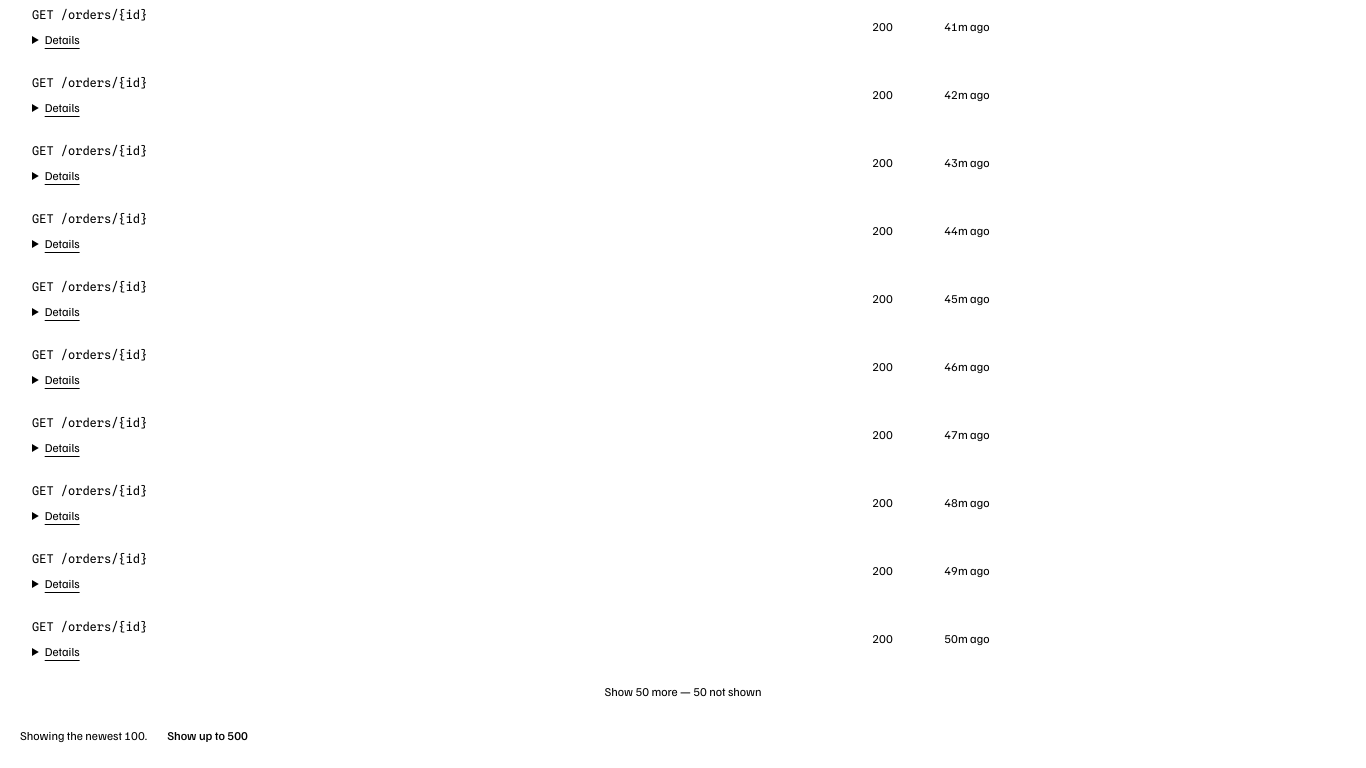
Test: offers up to 500 when the newest 100 fill the page, then pages back by until
(page scrolled)
Step 1. Click the button "Show up to 500" → (207, 736), box [159,724,256,748]
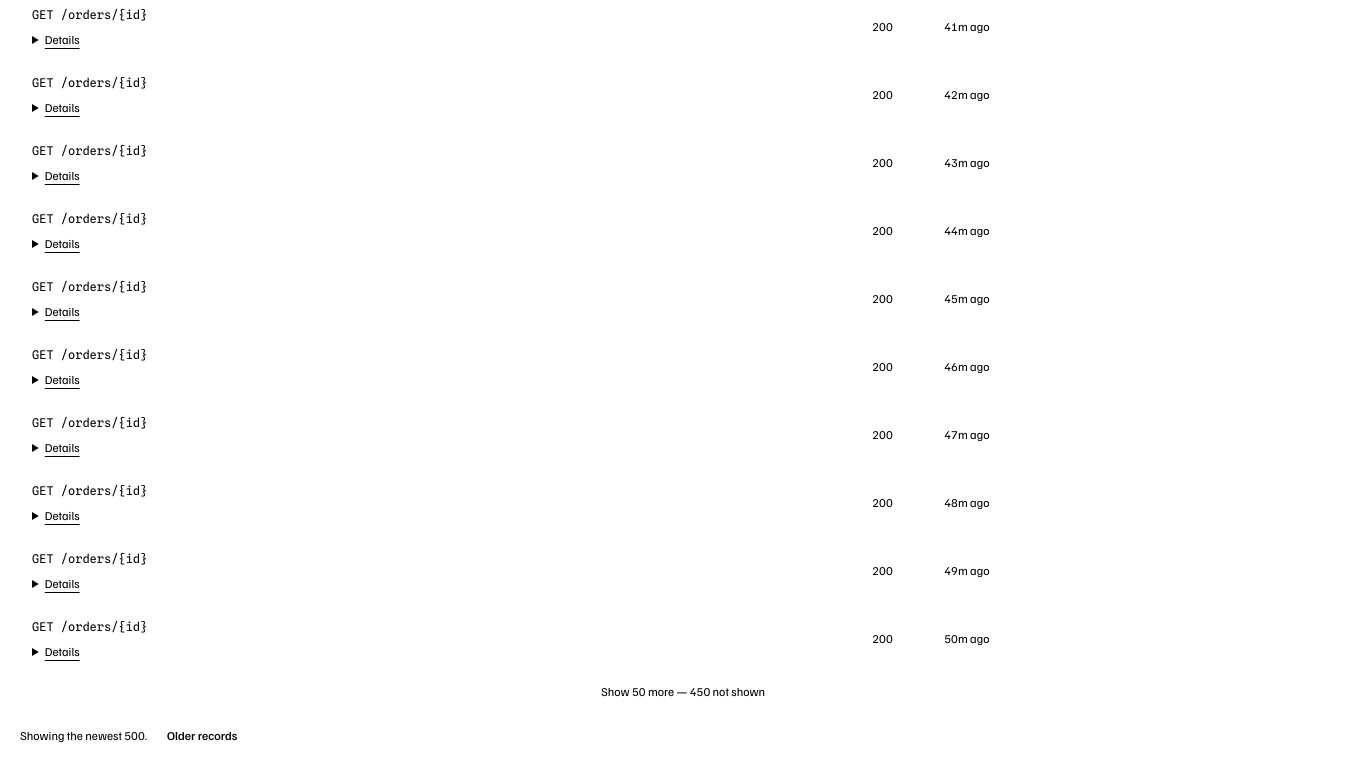
Check: the text "Showing the newest 500." is shown, box [20,728,147,744]
Check: the button "Show up to 500" is gone
Step 2. Click the button "Older records" → (202, 736), box [159,724,245,748]
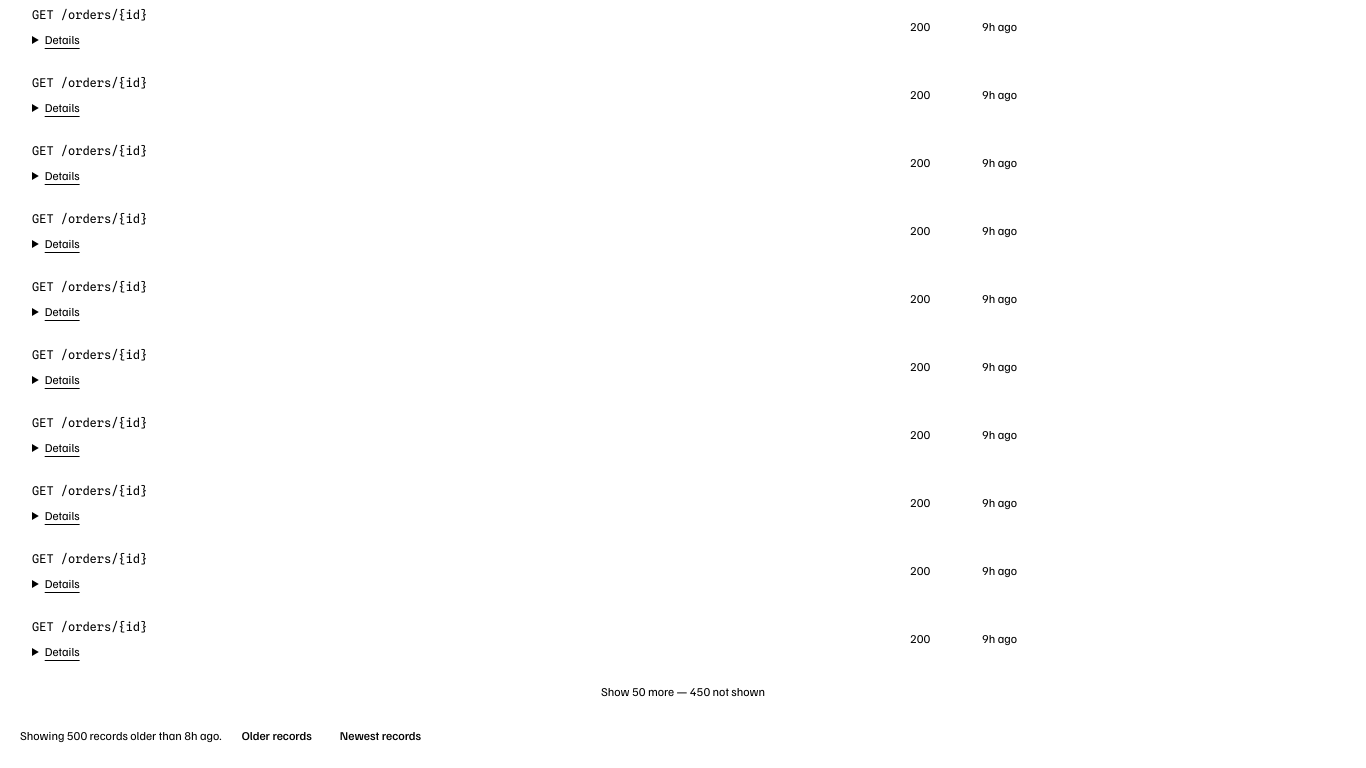
Check: the text "Showing 500 records older than 8h ago." is shown, box [20,728,222,744]
Step 3. Click the button "Newest records" → (381, 736), box [332,724,429,748]
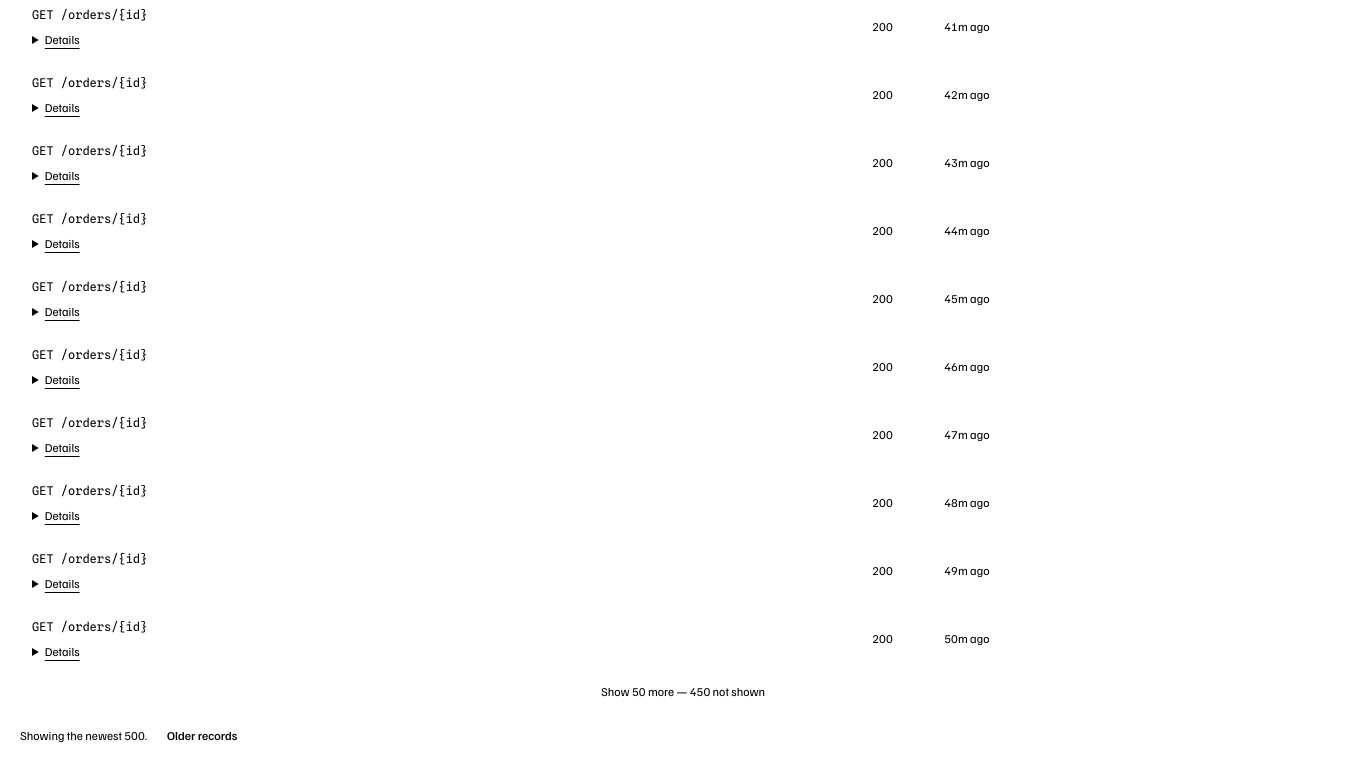
Check: the text "Showing the newest 500." is shown, box [20,728,147,744]
